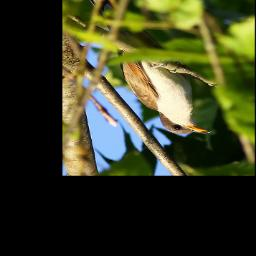Cuckoo: (79, 0, 215, 138)
